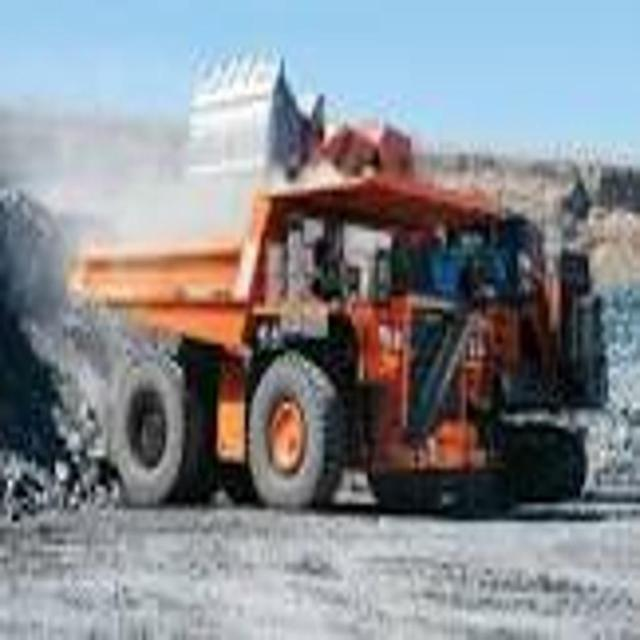dump_truck: (67, 182, 605, 519)
